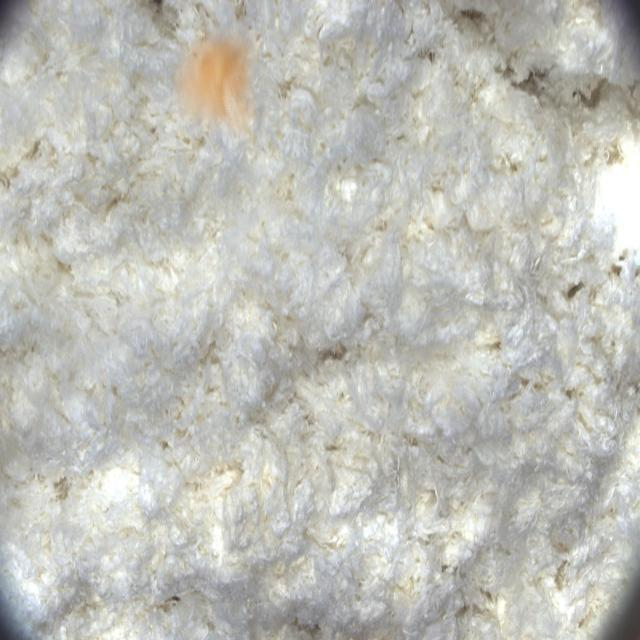dust: (171, 25, 261, 136)
